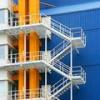stairs: (48, 42, 73, 65), (50, 80, 72, 99)
